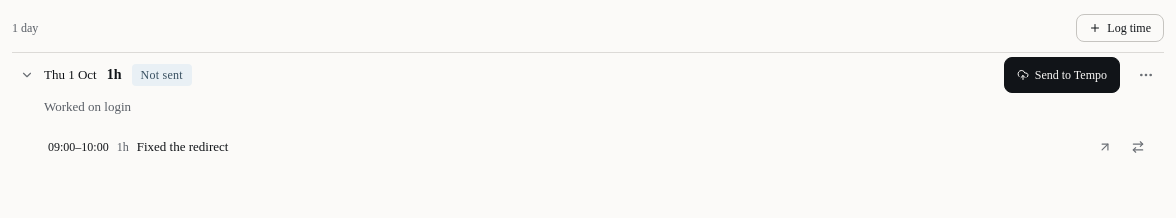
sync to Tempo › does not repeat the line text in the preview; it points at the text below
expect the text "1 day" is shown: met, box [12,19,38,37]
Click the button with aria-label "Send to Tempo, ".
click(1062, 75)  # box [1004,57,1120,93]
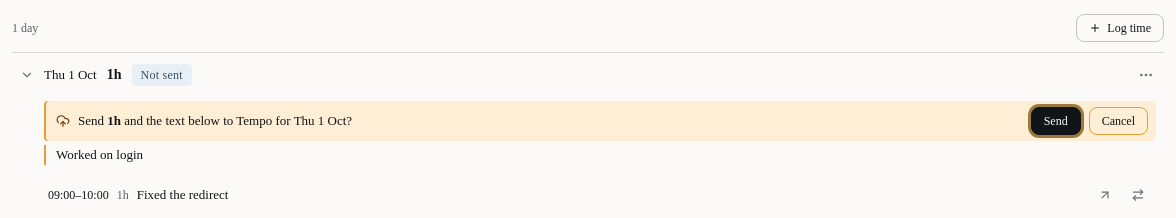
expect the element named "Confirm sending" is shown: met, box [44,101,1156,141]
expect the text "Worked on login" is shown once: met, box [56,147,143,162]
